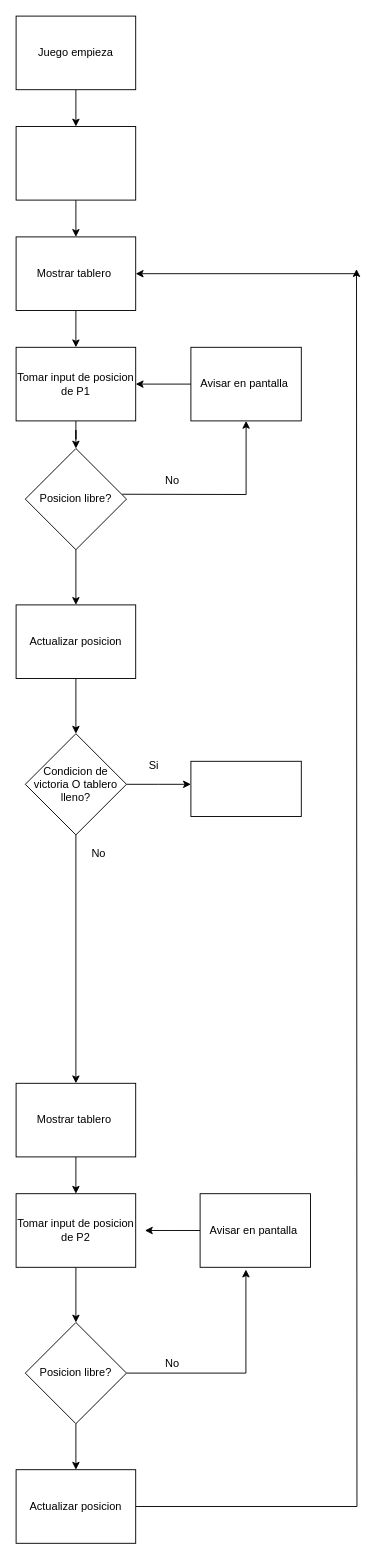
Some shapes in this 381 by 1559 pixel diagram are drawn without their labels. Here are the shapes that lost their labels. From the top down, the centre of each, then its label:
At [75,163]: "Preguntar que pieza se quiere (^ o *)".
At [245,788]: "Avisar victoria".
